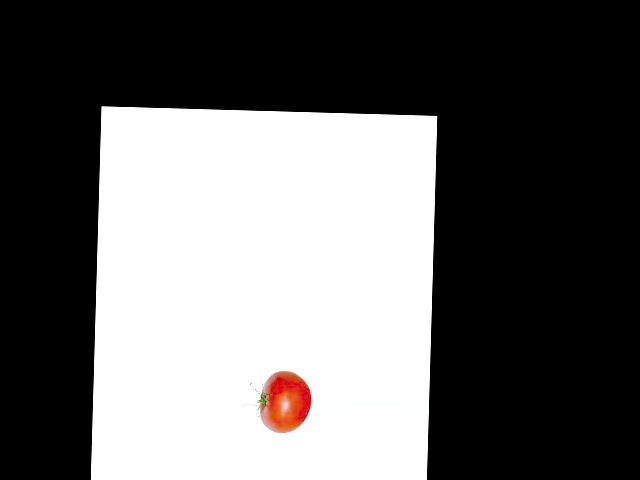tomato: (259, 371, 311, 433)
